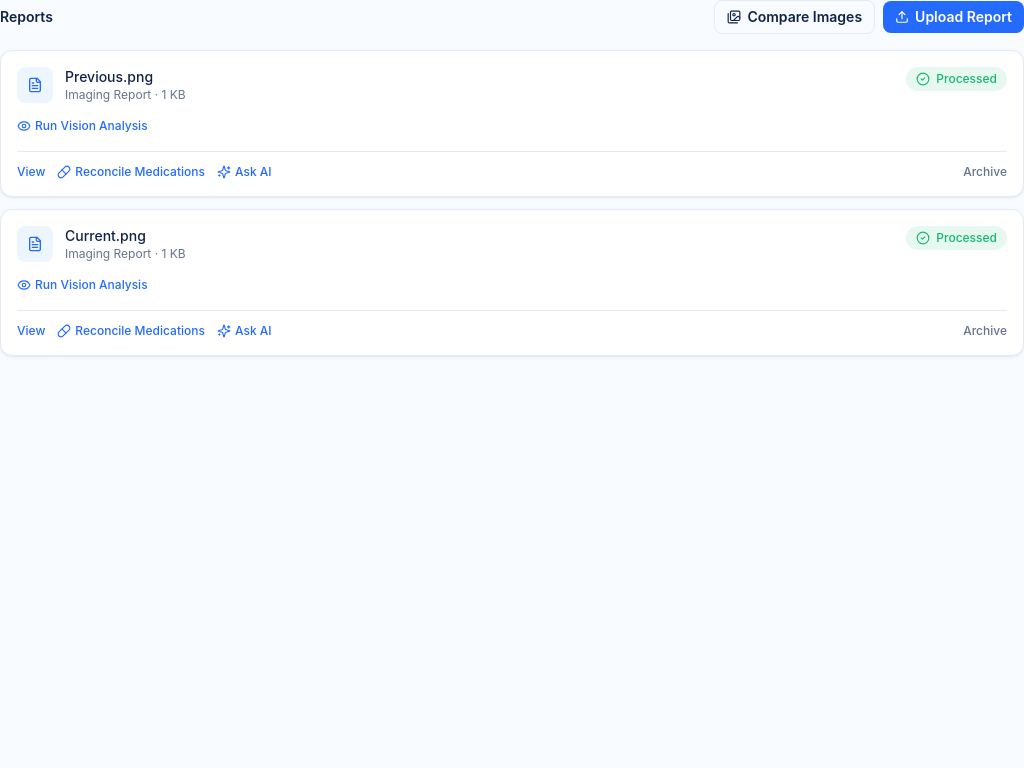
Test: Vision analysis on the Reports tab › offers image comparison once at least two analyzable images exist, and shows the result
The image size is (1024, 768).
Step 1. Click the button "Compare Images" → coordinates (795, 17), box 714,0 -> 875,34
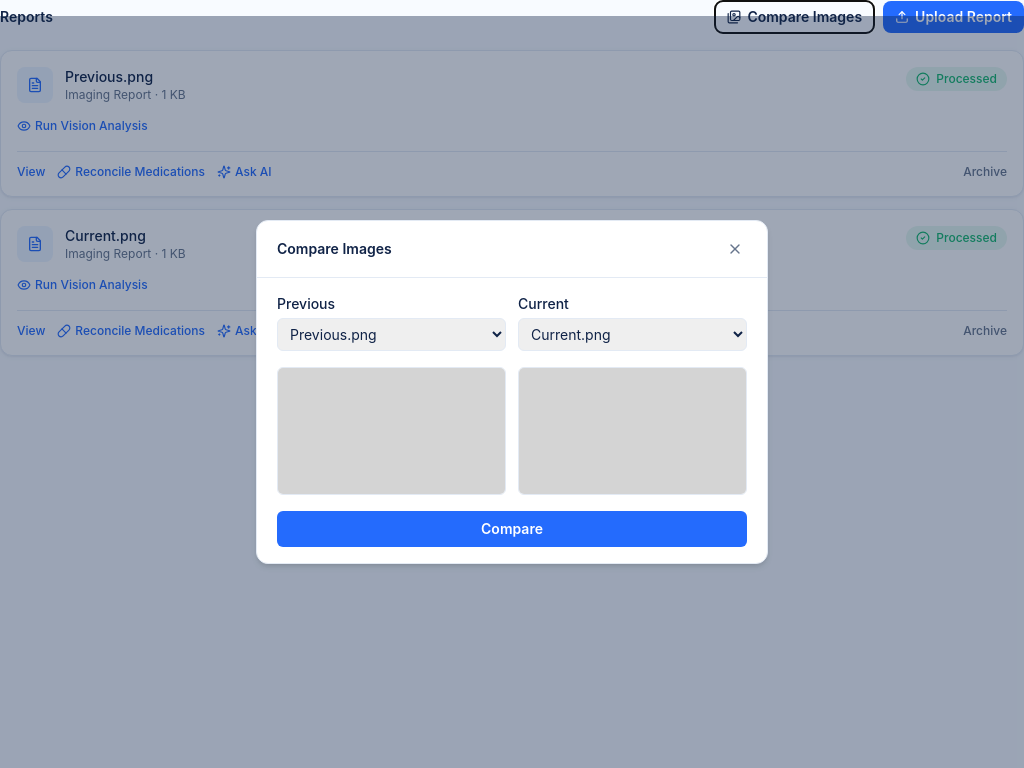
Step 2. Click the button "Compare" → coordinates (512, 529), box 277,511 -> 747,547
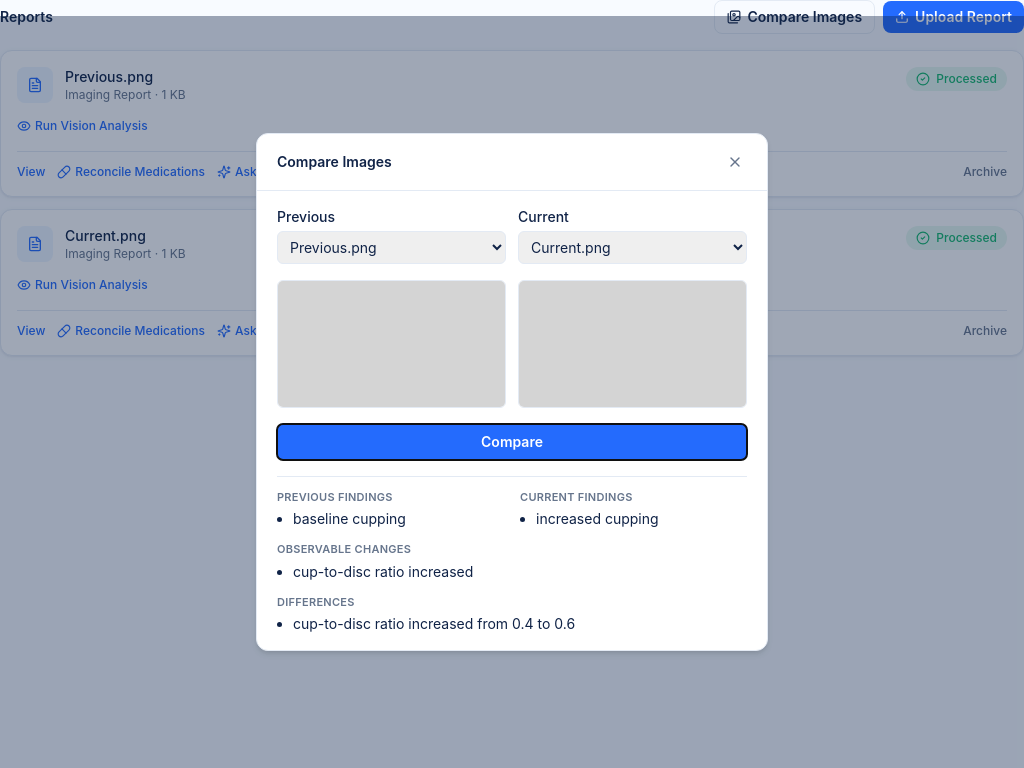
Expected: the list item "cup-to-disc ratio increased from 0.4 to 0.6" is shown, 293,615 -> 575,632
